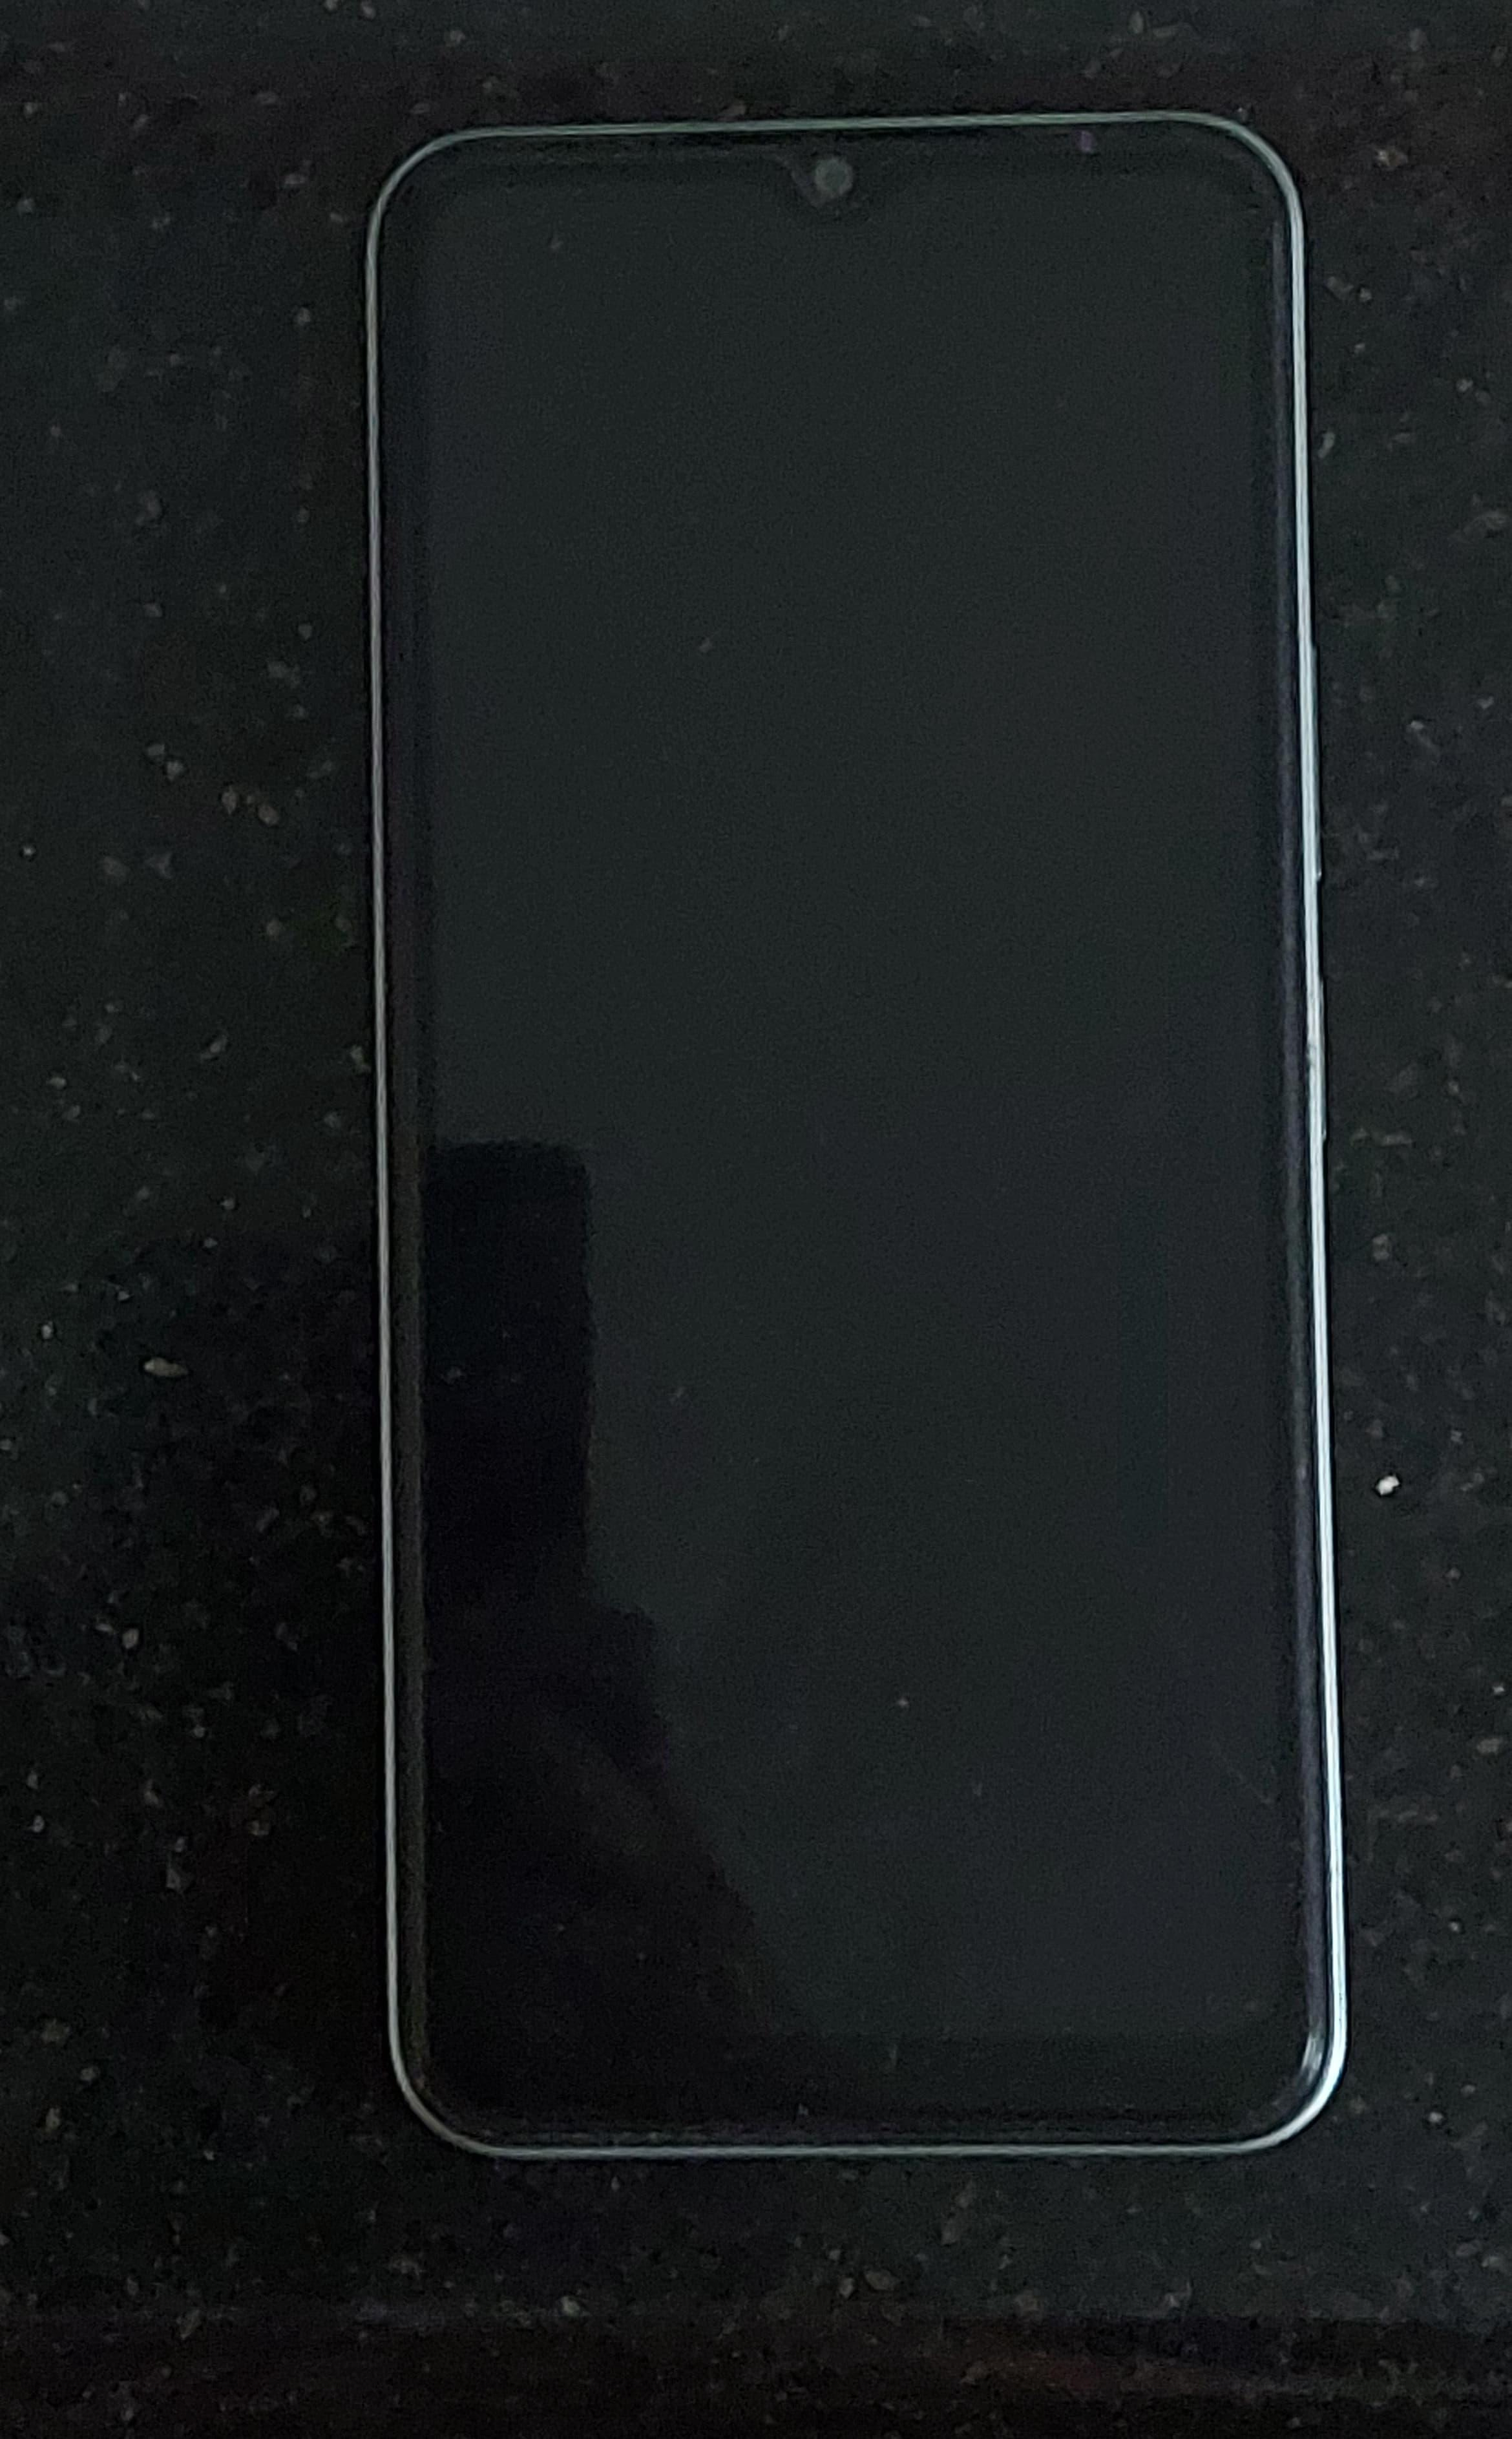Phone: (315, 105, 1374, 2221)
